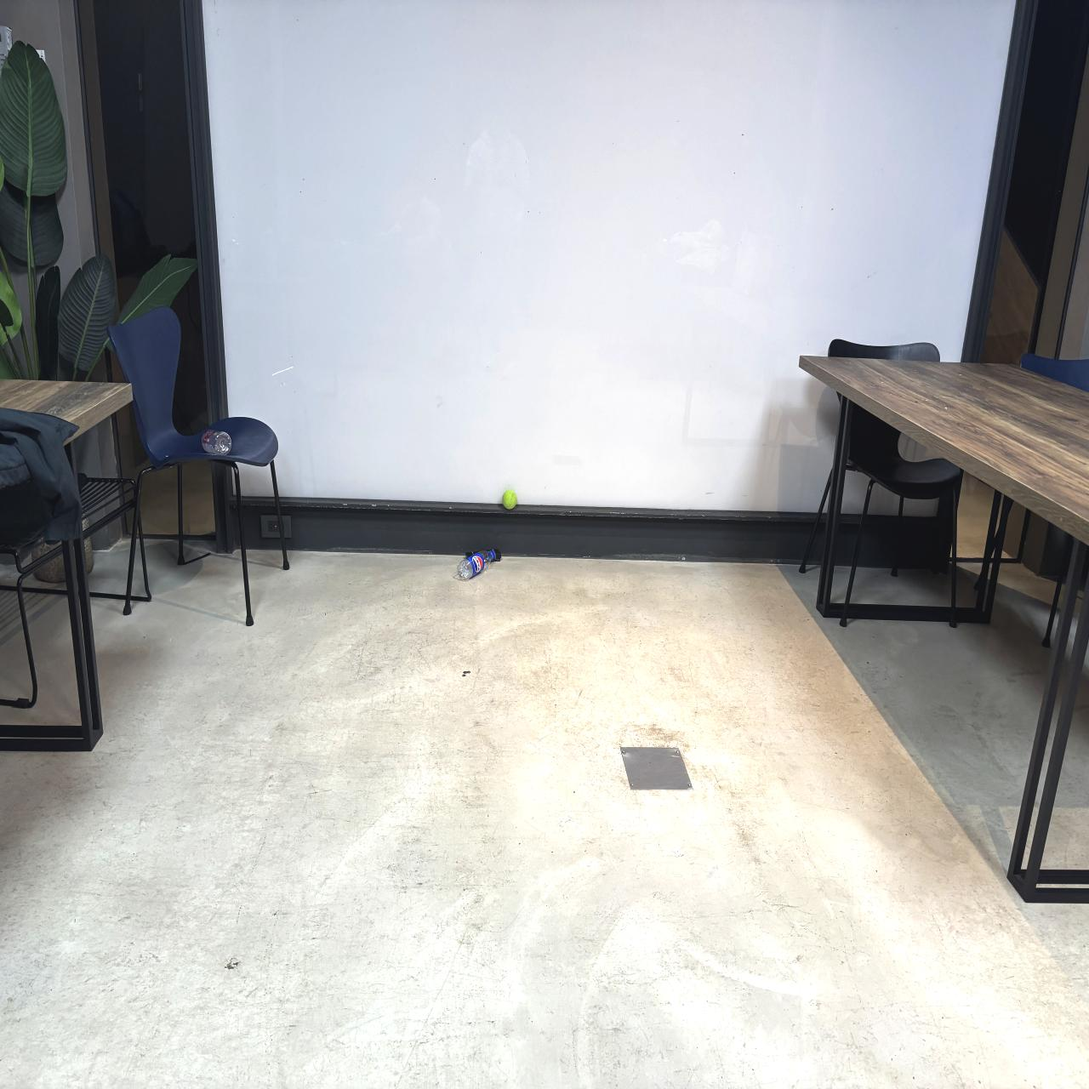tennisball: (502, 490, 517, 510)
